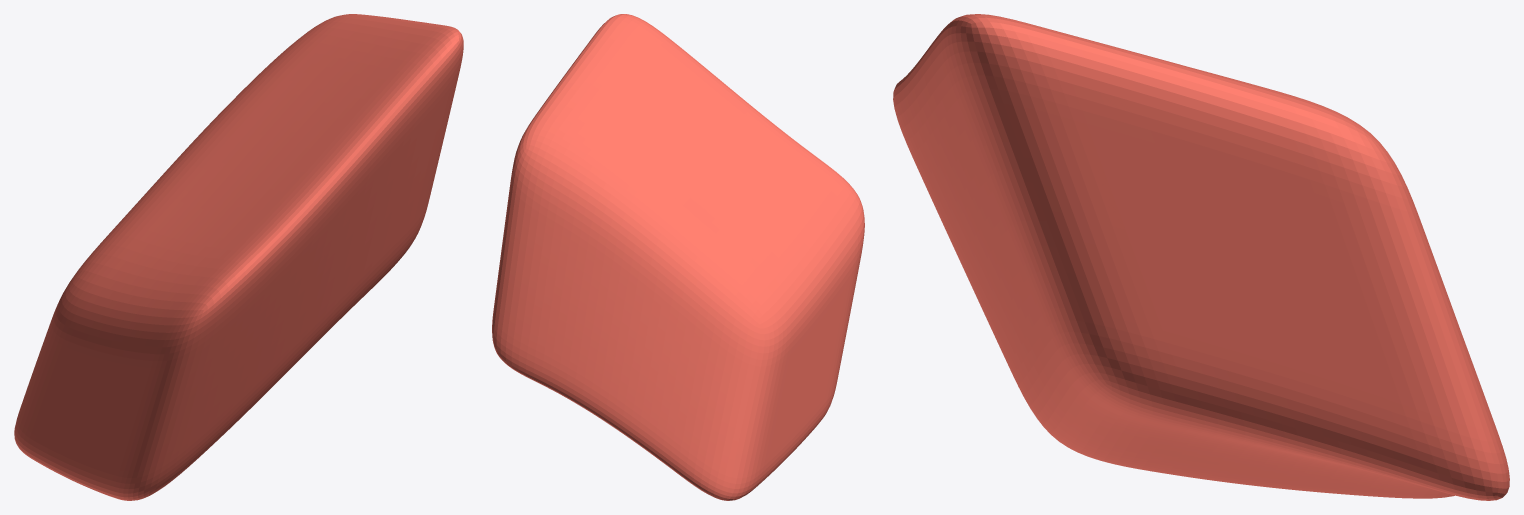
3 renders of one model, left to right at view 1: azimuth 30°, elevation 25°; view 2: azimuth 150°, elevation 25°; view 3: azimuth 270°, elevation 25°, orthographic. The views are drawn at different scales.
Visible parts, largest first — view 1: waves_1.036; view 2: waves_1.036; view 3: waves_1.036.
Boxes of the visible parts, x1,y1,x2,y2 form: waves_1.036: [14, 14, 463, 500]; waves_1.036: [492, 14, 864, 500]; waves_1.036: [893, 14, 1509, 500].
Bounding box in the file's own units: 30.45 × 40.99 × 33.21.
